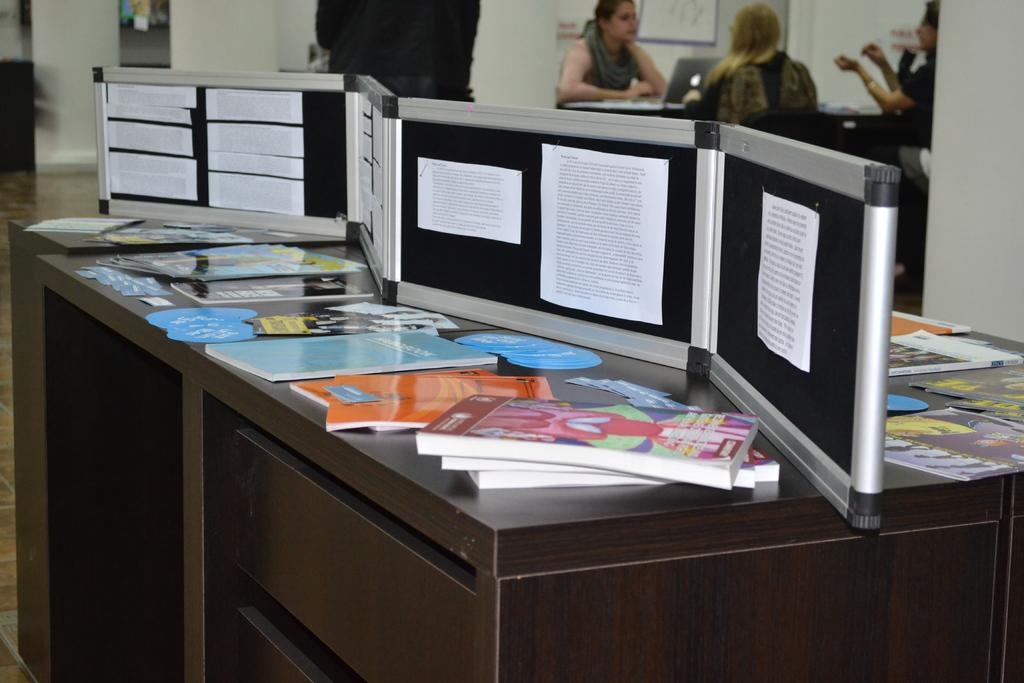Book: (203, 328, 781, 495), (419, 385, 767, 490), (888, 307, 1023, 483)
